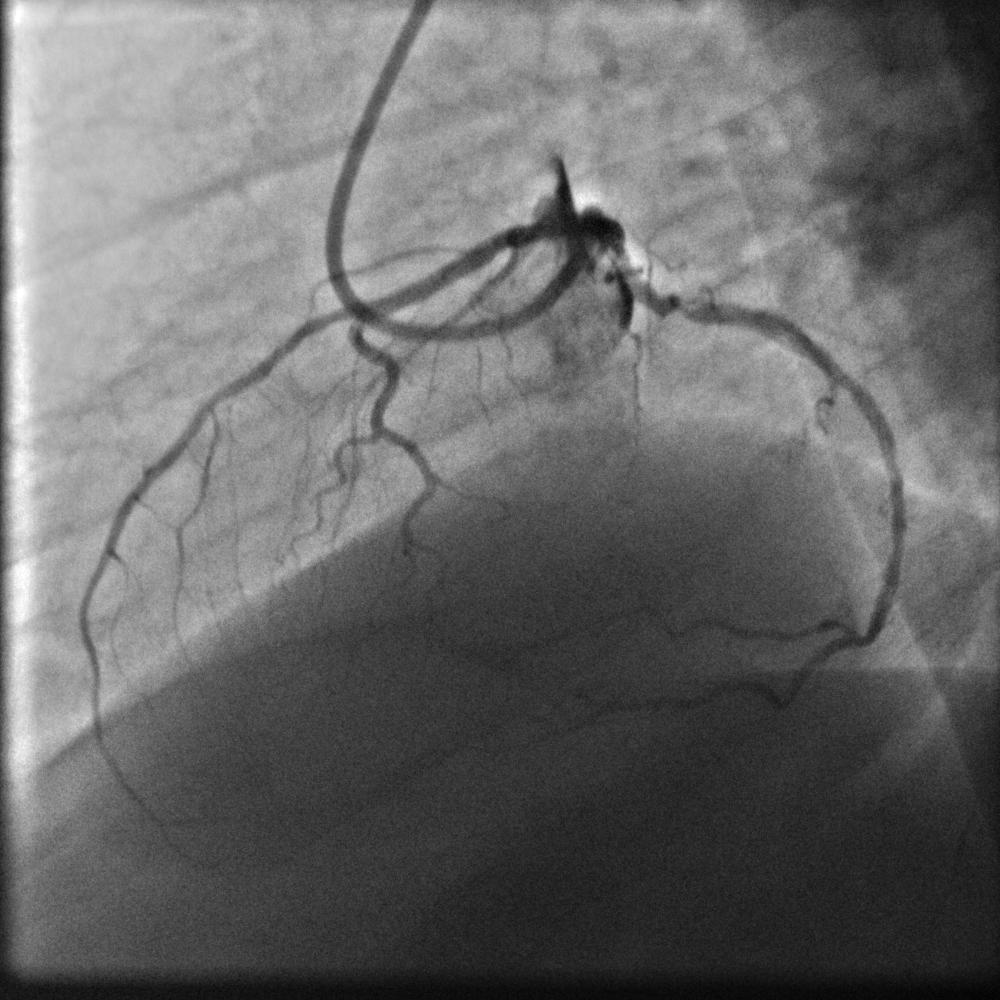Stenosis: (673, 294, 701, 321)
